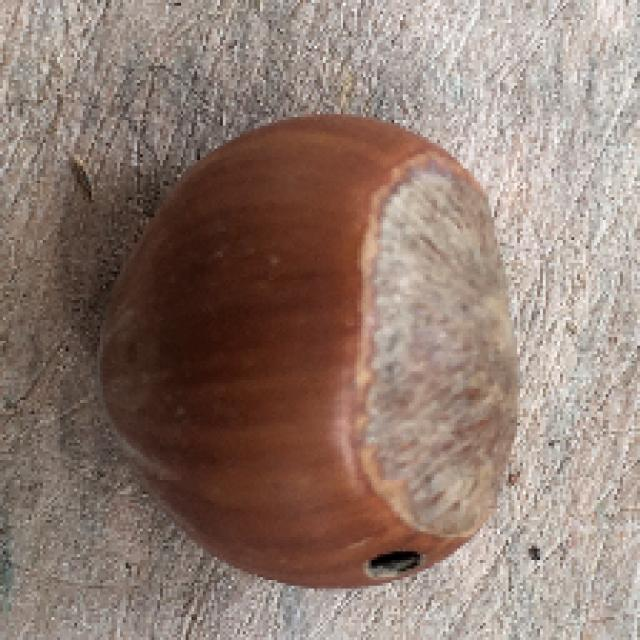damagedHazelnut: (87, 101, 539, 598)
